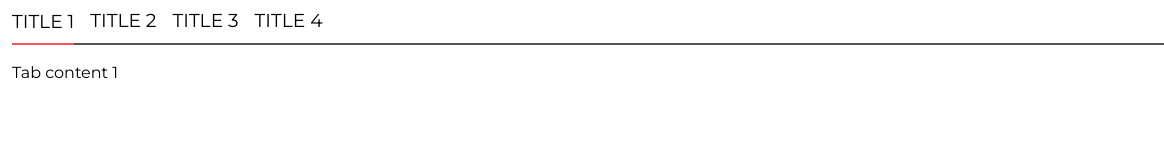
Scenario: Tablist component: › the content of the tabpanel changes when user clicks on a new tab
The width and height of the screenshot is (1164, 160).
Expected: the panel reads "Tab content 1", left=12, top=63, right=118, bottom=82
Click the tab "Title 2" at (123, 25), box left=90, top=6, right=156, bottom=43
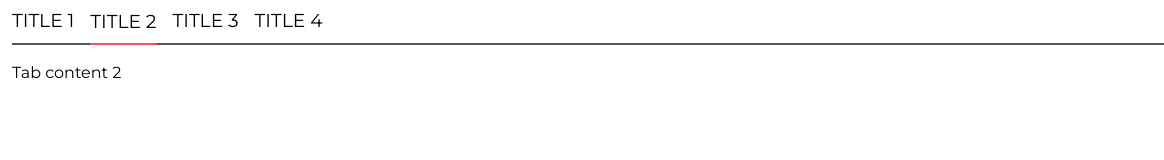
Result: the panel reads "Tab content 2" at left=12, top=63, right=121, bottom=82
Click the tab "Title 4" at (289, 25), box left=255, top=6, right=322, bottom=43
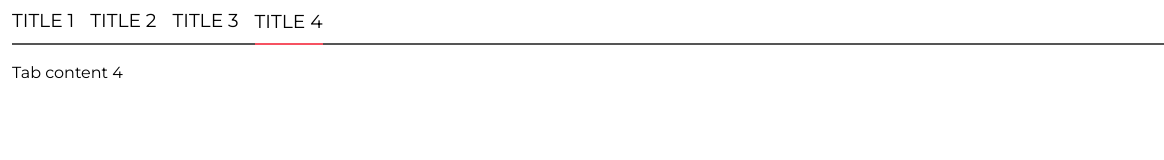
Result: the panel reads "Tab content 4" at left=12, top=63, right=123, bottom=82
